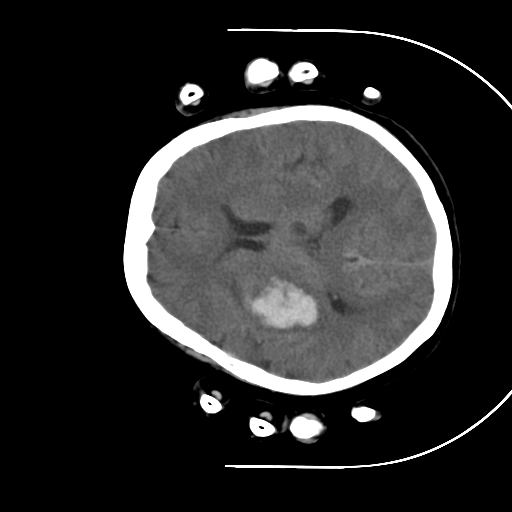a: (214, 253, 344, 352)
